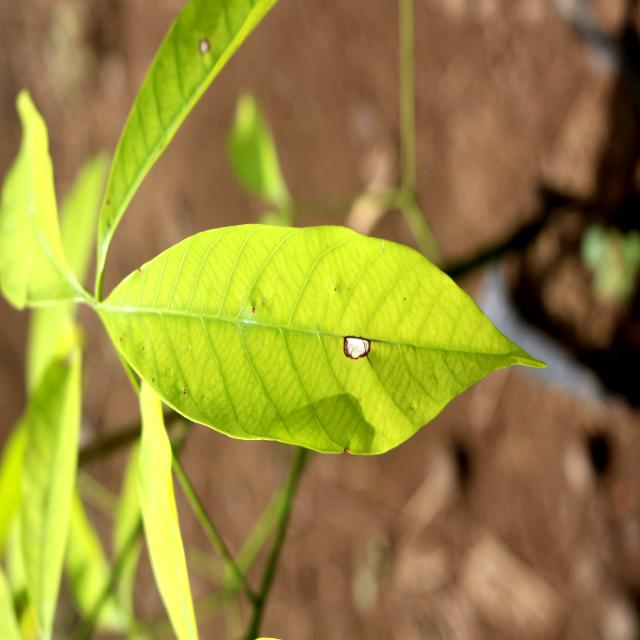Colletotrichum: (343, 336, 371, 359), (252, 308, 255, 313), (184, 389, 187, 394)
